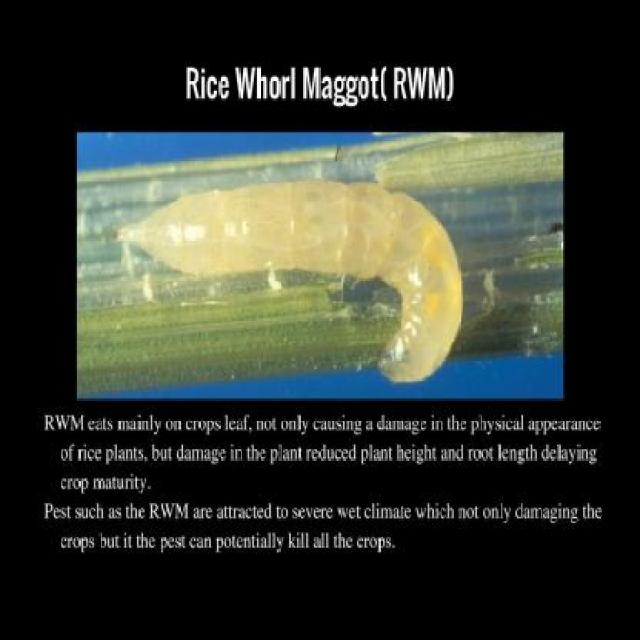whorl-maggot: (108, 170, 469, 385)
